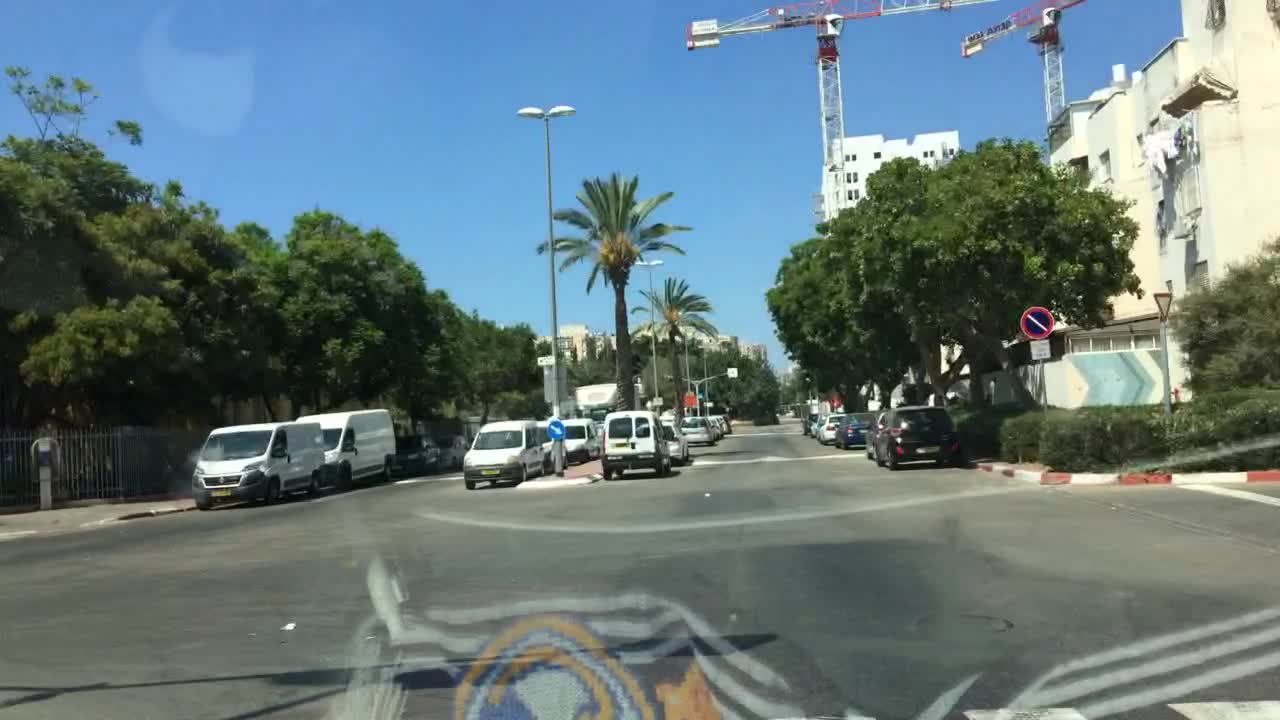car: (190, 419, 329, 510), (298, 411, 396, 486), (462, 421, 541, 491), (878, 403, 958, 470), (602, 410, 671, 480), (561, 416, 600, 464), (835, 413, 878, 449), (398, 436, 436, 472), (540, 429, 571, 466), (863, 414, 887, 459), (437, 435, 471, 466), (686, 416, 714, 446), (666, 426, 688, 464), (821, 416, 848, 444), (802, 415, 819, 436), (811, 415, 827, 437), (714, 413, 731, 431), (712, 420, 723, 436)
traffic sign: (1019, 306, 1051, 339), (1154, 290, 1174, 320), (546, 420, 563, 440), (1028, 341, 1049, 356), (726, 366, 738, 378)
truck: (573, 381, 641, 416)
